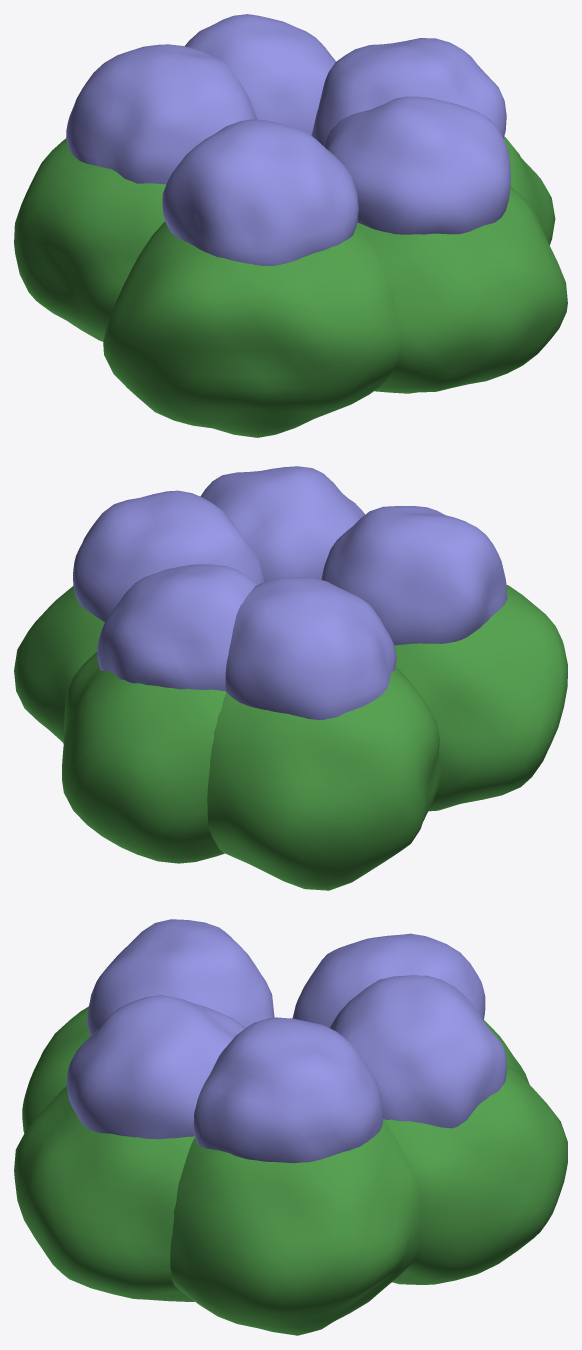
File: hydrangea.glb
3 views of the same model, one above another, from view 1: azimuth 30°, elevation 25°; view 2: azimuth 150°, elevation 25°; view 3: azimuth 270°, elevation 25° (orthographic).
Parts seen in each view (by area): view 1: blossom, leaf_3, leaf_4, leaf_2, leaf_0; view 2: blossom, leaf_2, leaf_1, leaf_3, leaf_0; view 3: blossom, leaf_0, leaf_4, leaf_1, leaf_3.
Part boxes in pixels (left/top/right/bottom): blossom: left=66, top=14, right=510, bottom=265; leaf_3: left=103, top=221, right=400, bottom=437; leaf_4: left=356, top=186, right=567, bottom=393; leaf_2: left=14, top=138, right=165, bottom=341; leaf_0: left=503, top=136, right=555, bottom=245; blossom: left=73, top=466, right=507, bottom=719; leaf_2: left=207, top=667, right=441, bottom=890; leaf_1: left=62, top=652, right=225, bottom=863; leaf_3: left=394, top=585, right=567, bottom=811; leaf_0: left=14, top=586, right=104, bottom=743; blossom: left=66, top=919, right=506, bottom=1163; leaf_0: left=170, top=1119, right=421, bottom=1335; leaf_4: left=14, top=1086, right=194, bottom=1301; leaf_1: left=383, top=1064, right=567, bottom=1284; leaf_3: left=22, top=1006, right=90, bottom=1132.
Size of the model in its own units: 1.85 by 1.05 by 1.85.
